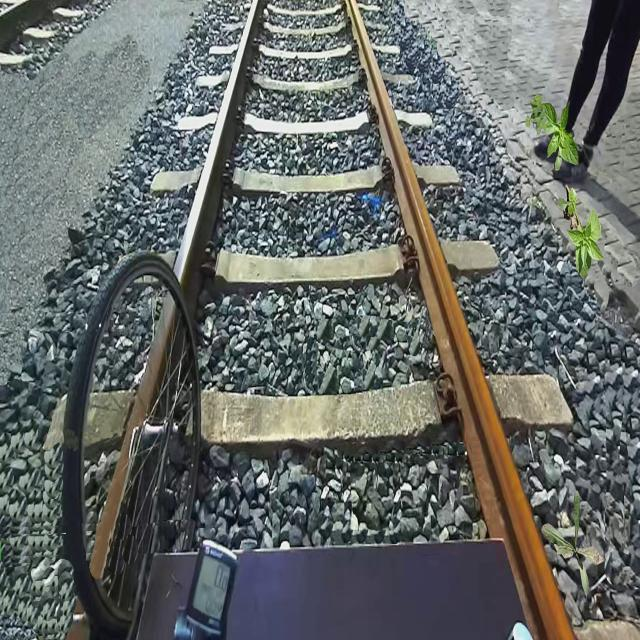Plant: (541, 490, 605, 602), (557, 184, 605, 279), (537, 100, 578, 171), (525, 94, 549, 135)
